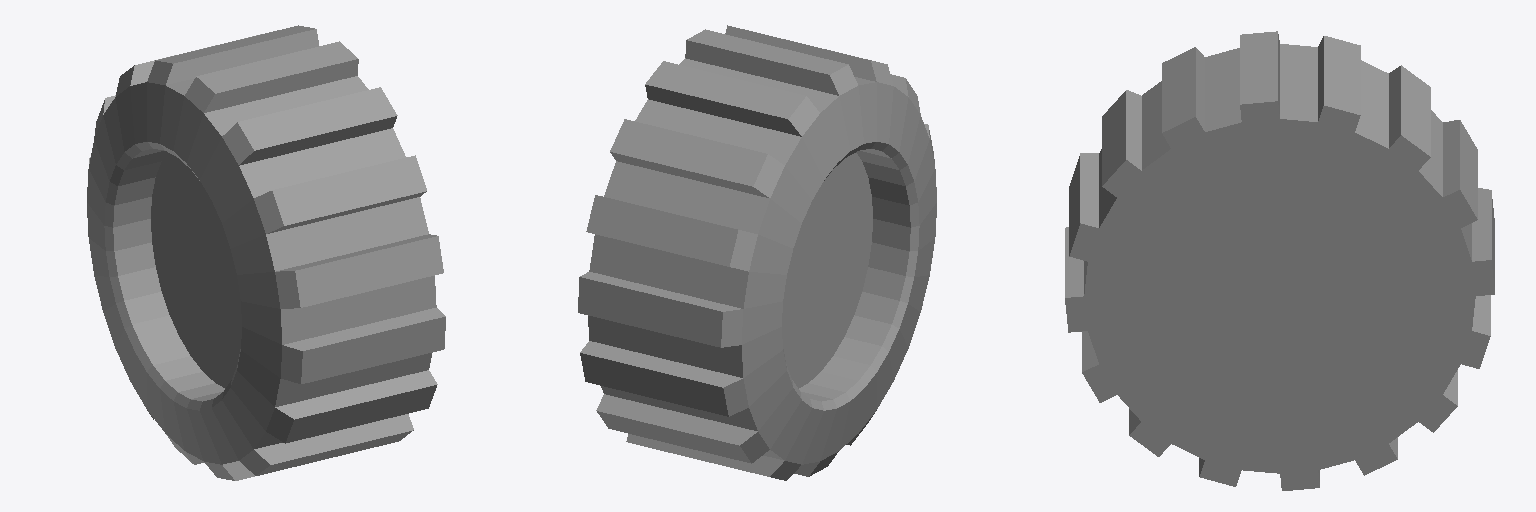
The model's file is wheel.obj.
3 views of the same model, side by side, from view 1: azimuth 30°, elevation 25°; view 2: azimuth 150°, elevation 25°; view 3: azimuth 270°, elevation 25° (orthographic).
Visible parts, largest first — view 1: Cylinder_Cylinder.001; view 2: Cylinder_Cylinder.001; view 3: Cylinder_Cylinder.001.
Part boxes in pixels (bbox=[...]): Cylinder_Cylinder.001: bbox=[87, 25, 445, 480]; Cylinder_Cylinder.001: bbox=[578, 25, 936, 480]; Cylinder_Cylinder.001: bbox=[1065, 31, 1494, 490].
Bounding box in the file's own units: 0.3271 × 0.7373 × 0.7373.